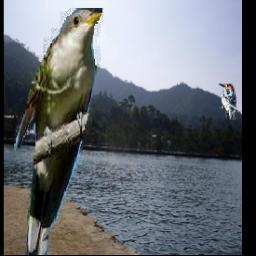Cuckoo: (14, 8, 103, 255)
Woodpecker: (218, 82, 237, 121)
